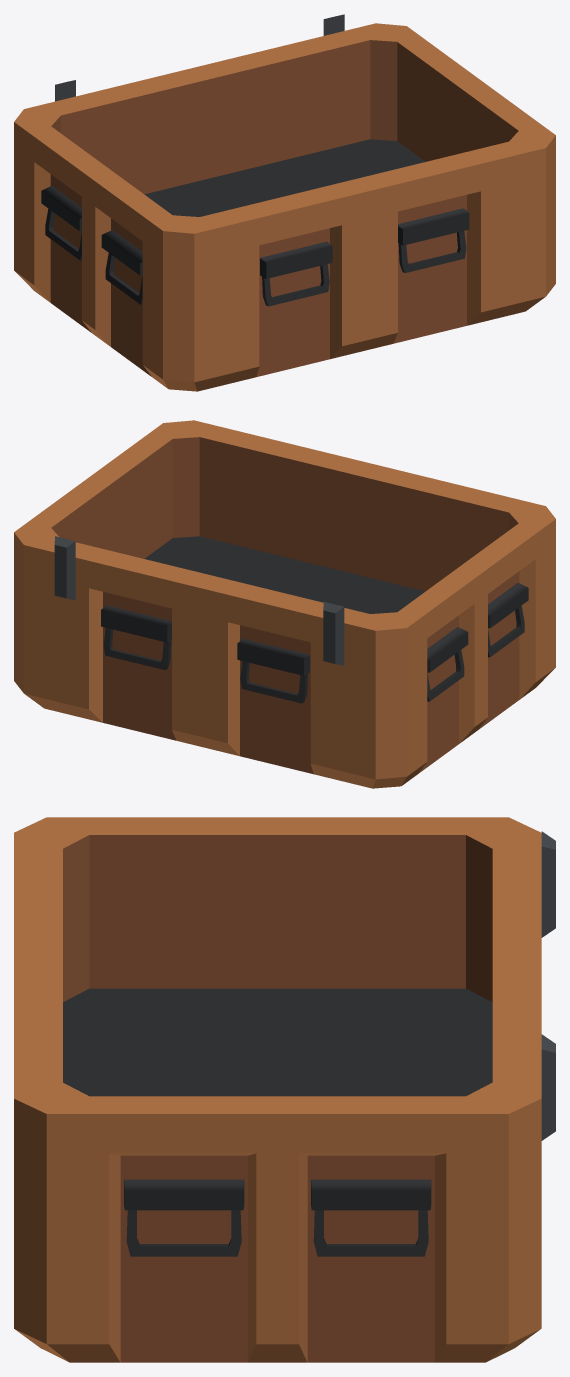
File: SM_Prop_Crate_Plastic_03.fbx
3 renders of one model, top to bottom at view 1: azimuth 30°, elevation 25°; view 2: azimuth 150°, elevation 25°; view 3: azimuth 270°, elevation 25°, orthographic. The views are drawn at different scales.
Visible parts, largest first — view 1: SM_Prop_Crate_Plastic_03; view 2: SM_Prop_Crate_Plastic_03; view 3: SM_Prop_Crate_Plastic_03.
Boxes of the visible parts, <box> form: SM_Prop_Crate_Plastic_03: <box>14,14,555,391</box>; SM_Prop_Crate_Plastic_03: <box>14,420,555,788</box>; SM_Prop_Crate_Plastic_03: <box>14,817,555,1362</box>.
Size of the model in its own units: 103 by 46.15 by 79.8.
